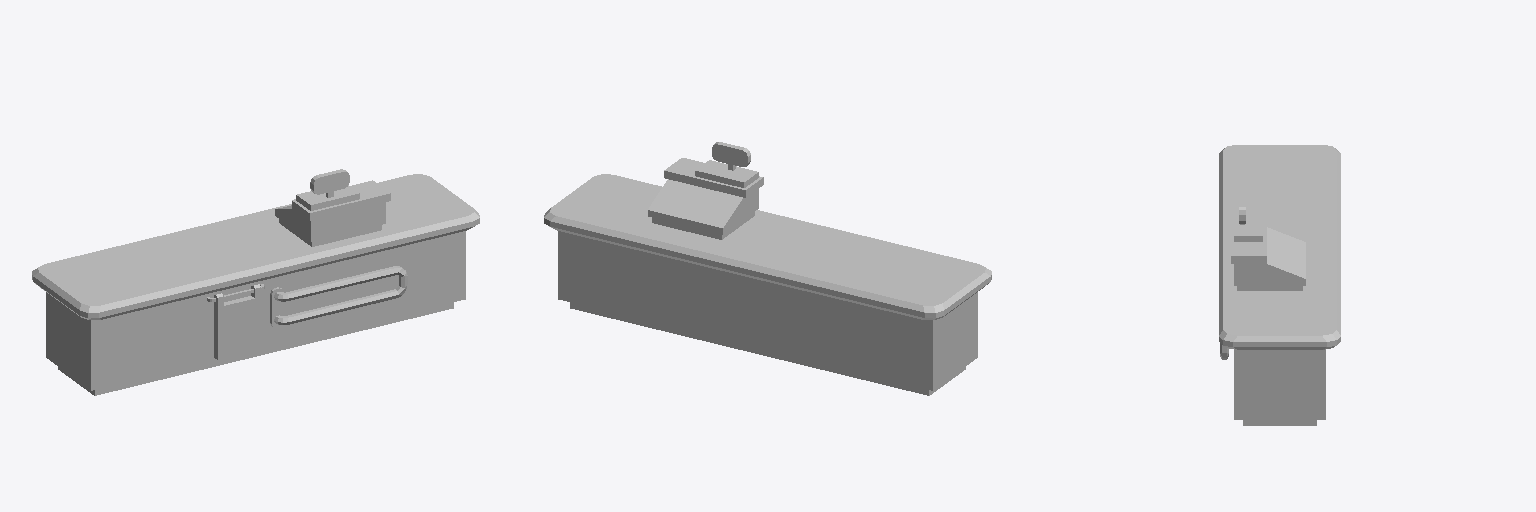
The model's file is cash.obj.
3 renders of one model, left to right at view 1: azimuth 30°, elevation 25°; view 2: azimuth 150°, elevation 25°; view 3: azimuth 270°, elevation 25°, orthographic.
Parts seen in each view (by area): view 1: Cube.022_Cube.137, Cube.023_Cube.138, Cube.020_Cube.135, Cylinder.043_Cylinder.025, Cube.004_Cube.001; view 2: Cube.022_Cube.137, Cube.023_Cube.138, Cube.004_Cube.001; view 3: Cube.022_Cube.137, Cube.023_Cube.138.
Boxes of the visible parts, <box> form: Cube.022_Cube.137: <box>32,174,479,390</box>; Cube.023_Cube.138: <box>275,169,390,246</box>; Cube.020_Cube.135: <box>214,284,260,359</box>; Cylinder.043_Cylinder.025: <box>274,266,407,324</box>; Cube.004_Cube.001: <box>58,302,453,395</box>; Cube.022_Cube.137: <box>544,174,991,390</box>; Cube.023_Cube.138: <box>648,142,763,239</box>; Cube.004_Cube.001: <box>570,302,965,395</box>; Cube.022_Cube.137: <box>1219,145,1340,419</box>; Cube.023_Cube.138: <box>1231,194,1305,290</box>.
Bounding box in the file's own units: 2.66 × 1.05 × 0.7048.